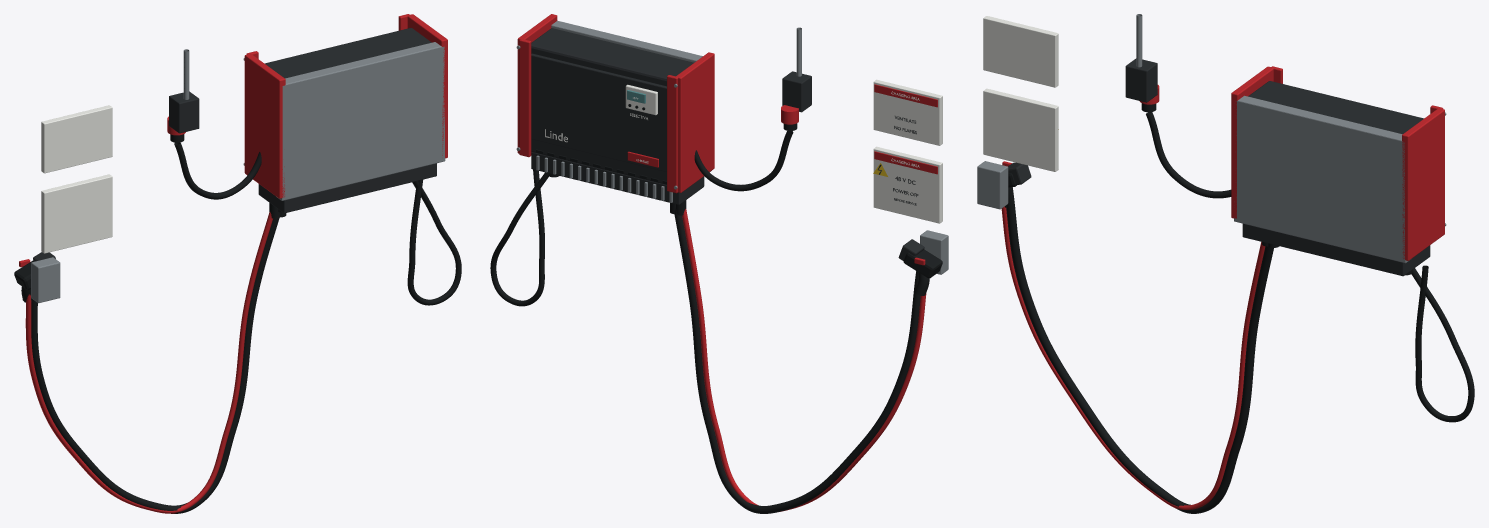
Rendered from SM_GHS_WallCharger.fbx.
3 renders of one model, left to right at view 1: azimuth 30°, elevation 25°; view 2: azimuth 150°, elevation 25°; view 3: azimuth 330°, elevation 25°, orthographic. The views are drawn at different scales.
Visible parts, largest first — view 1: SM_GHS_WallCharger; view 2: SM_GHS_WallCharger; view 3: SM_GHS_WallCharger.
Boxes of the visible parts, <box> form: SM_GHS_WallCharger: <box>14,14,461,513</box>; SM_GHS_WallCharger: <box>490,14,948,513</box>; SM_GHS_WallCharger: <box>977,14,1474,513</box>.
Size of the model in its own units: 171 by 24.7 by 176.
